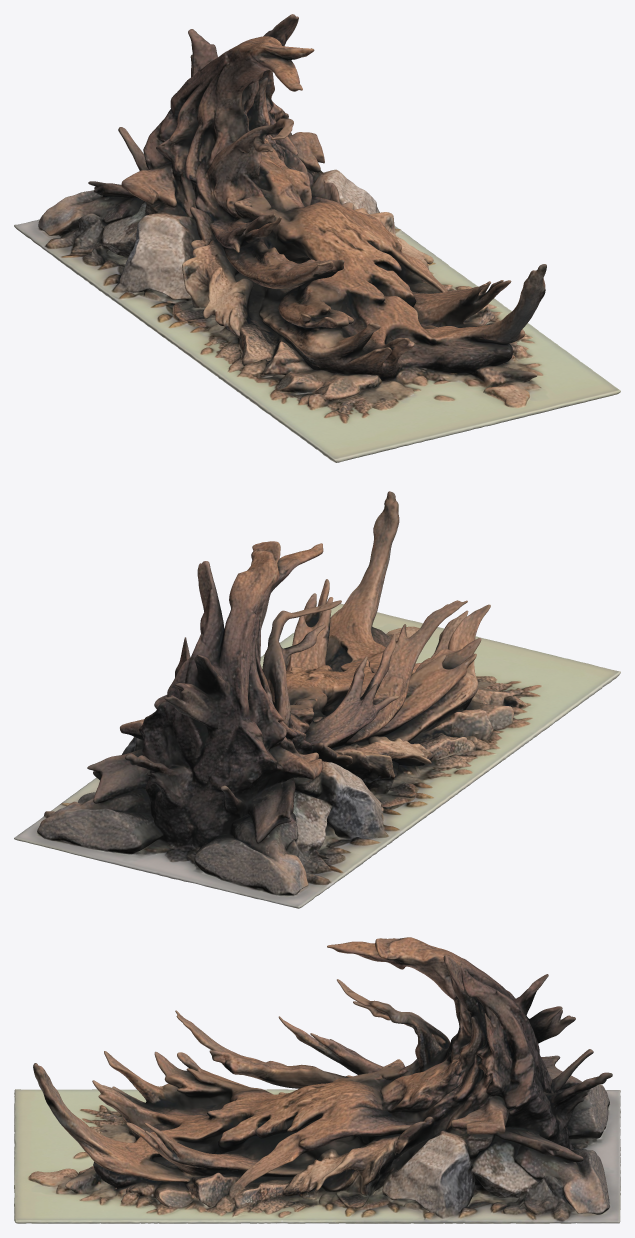
File: Naturever3-v6.glb
3 renders of one model, top to bottom at view 1: azimuth 30°, elevation 25°; view 2: azimuth 150°, elevation 25°; view 3: azimuth 270°, elevation 25°, orthographic. The views are drawn at different scales.
Parts seen in each view (by area): view 1: tripo_node_c0155b16-10e1-42b6-b484-a5c226efd2ac; view 2: tripo_node_c0155b16-10e1-42b6-b484-a5c226efd2ac; view 3: tripo_node_c0155b16-10e1-42b6-b484-a5c226efd2ac.
Part boxes in pixels (x1=…): tripo_node_c0155b16-10e1-42b6-b484-a5c226efd2ac: x1=14, y1=14, x2=620, y2=462; tripo_node_c0155b16-10e1-42b6-b484-a5c226efd2ac: x1=14, y1=491, x2=620, y2=908; tripo_node_c0155b16-10e1-42b6-b484-a5c226efd2ac: x1=14, y1=937, x2=620, y2=1223.
Size of the model in its own units: 0.5142 by 0.4062 by 1.
1 material, 1 textured.
